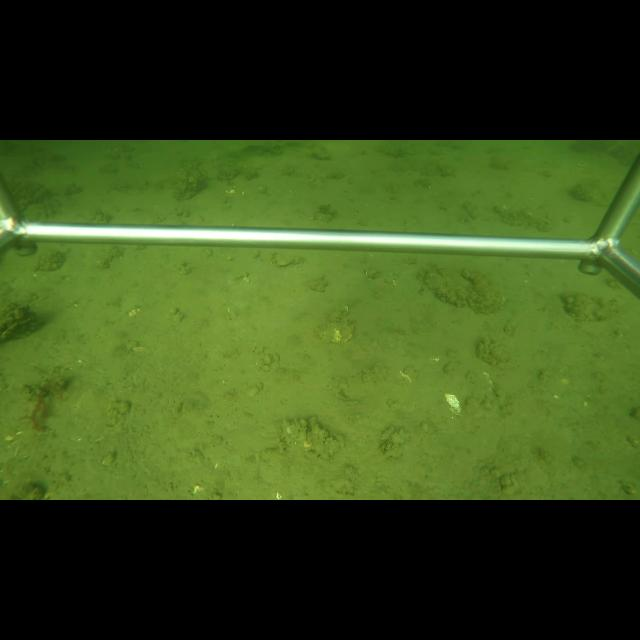Oyster-Closed: (419, 268, 506, 313), (269, 252, 303, 268)
Oyster-Open: (1, 314, 47, 342)
